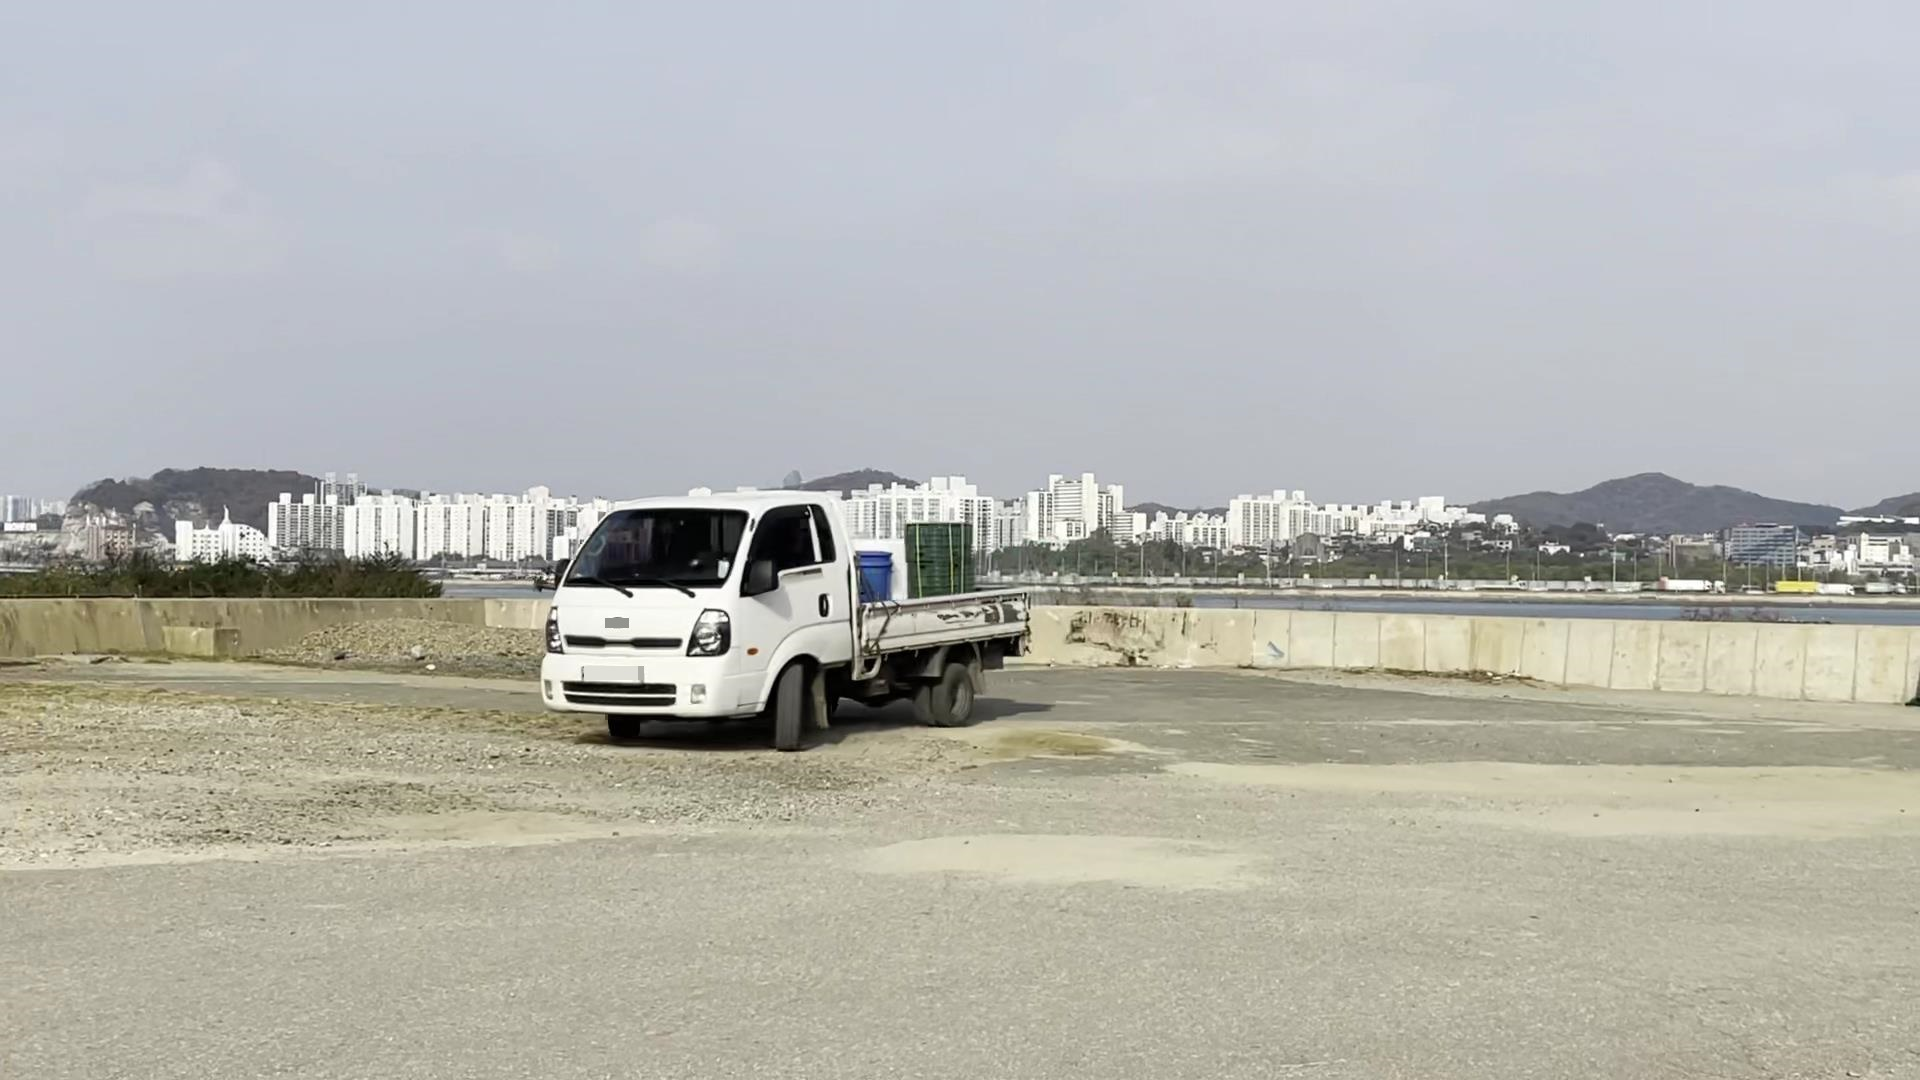불법차량: (534, 489, 1031, 750)
